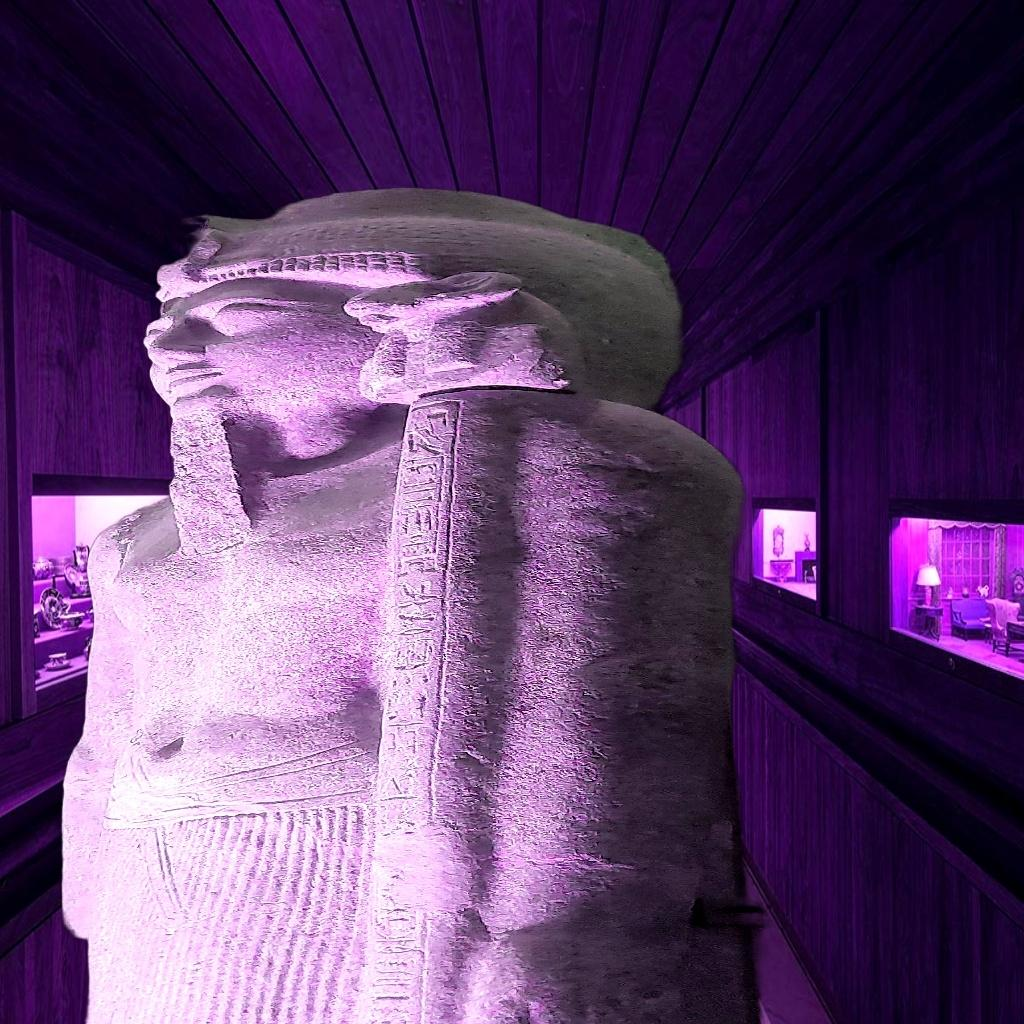Statue of Ramesses III as standard Bearer: (52, 177, 880, 1024)
